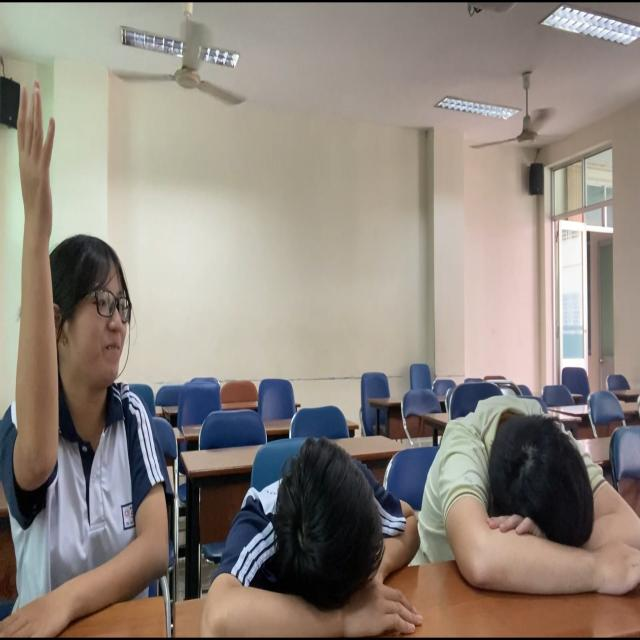raise_hand: (1, 50, 186, 640)
sleep: (375, 349, 640, 625), (175, 389, 436, 640)
